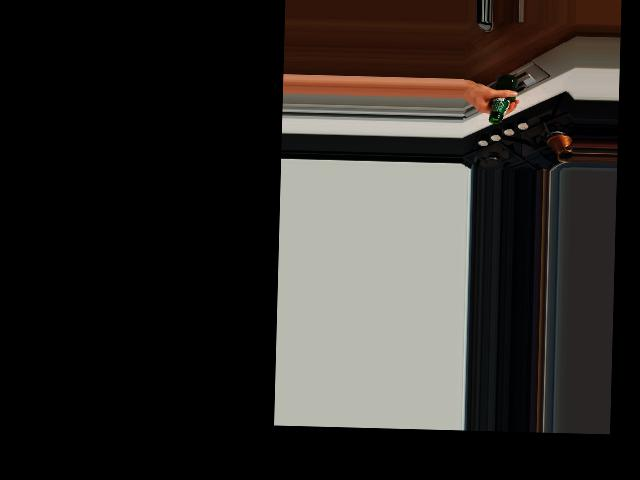beer: (488, 73, 517, 124)
